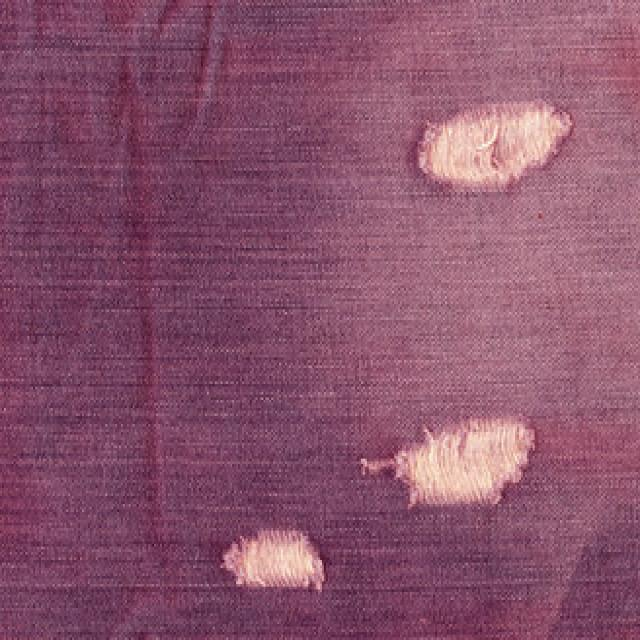Hole: (418, 100, 574, 192), (395, 418, 536, 508), (222, 531, 325, 592)
